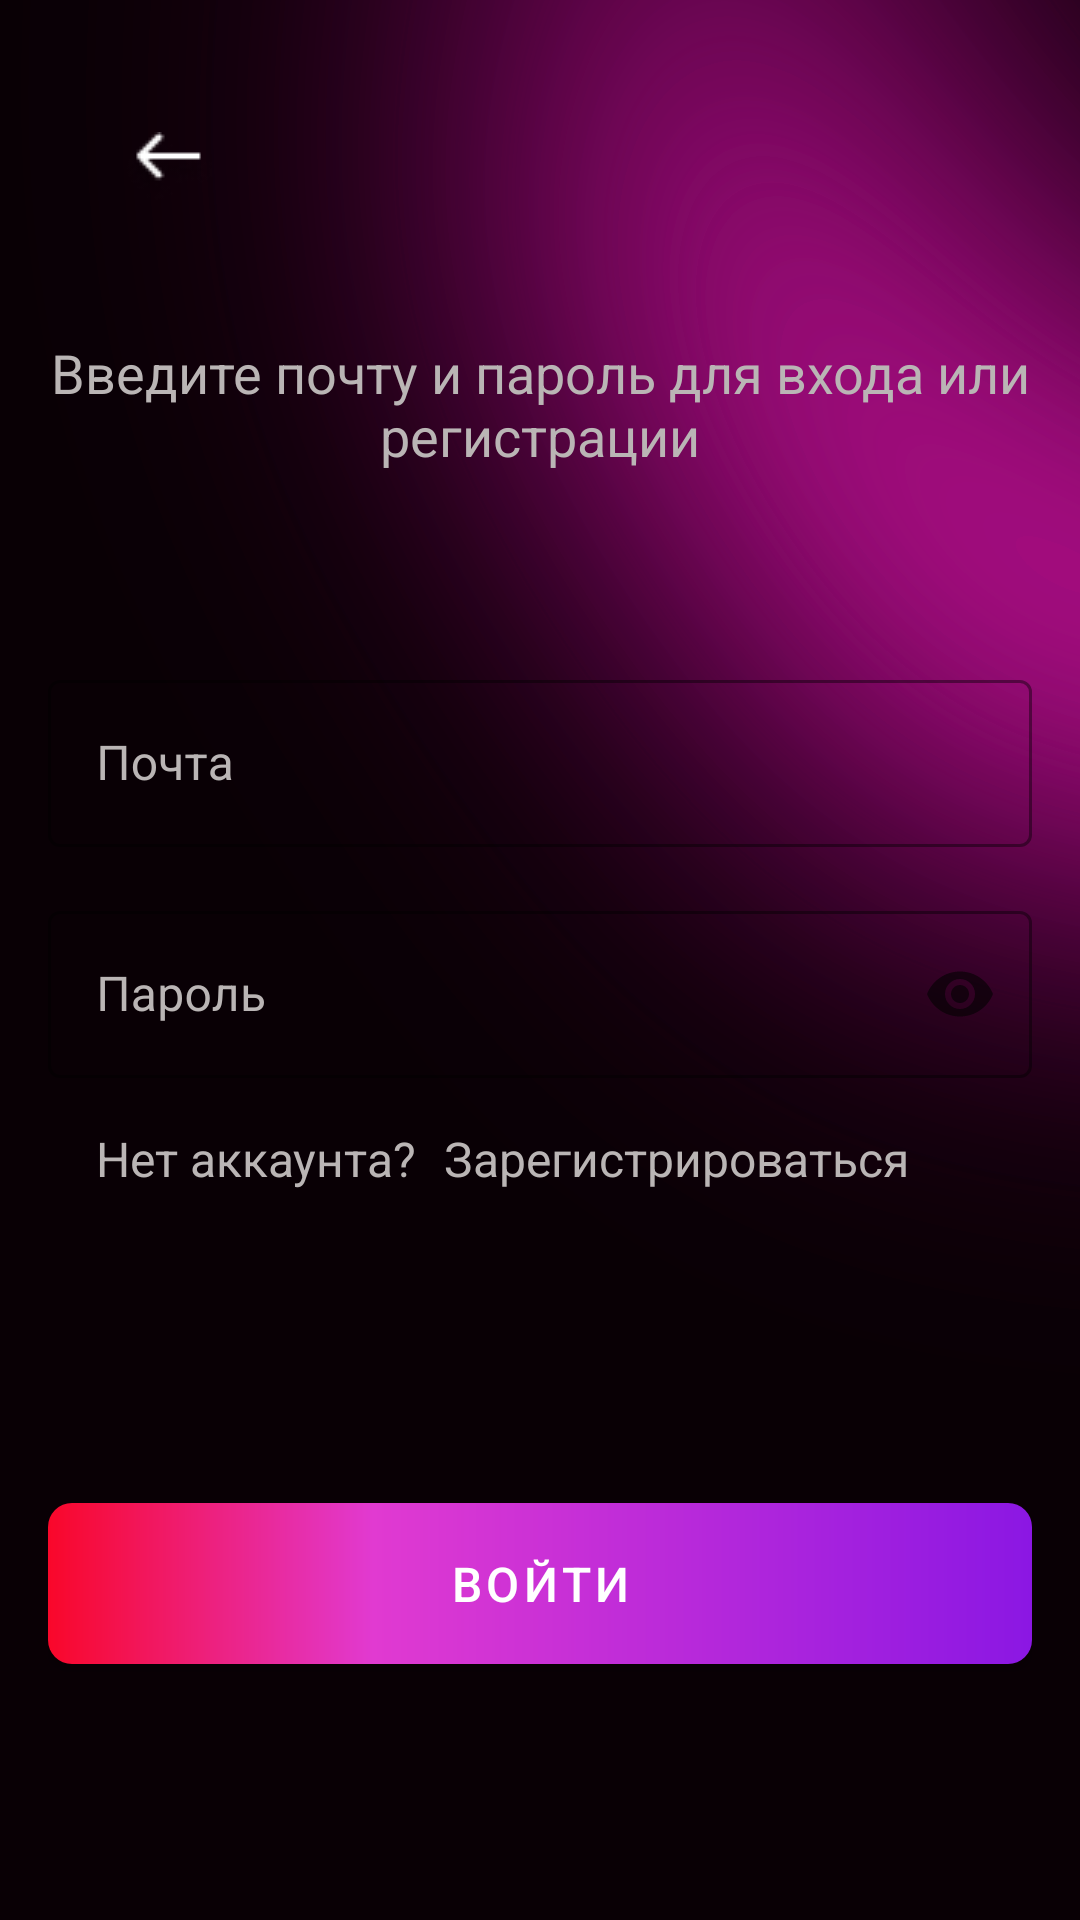

Icons on this 1080w x 1920h Android screen, each with its box as (x1, y1, x2, y2):
arrow back: (136, 132, 201, 180)
